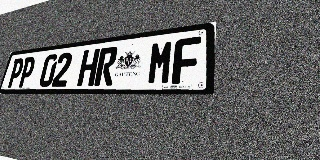0: (38, 54, 59, 87)
2: (51, 52, 73, 87)
F: (171, 36, 201, 84)
H: (77, 49, 100, 86)
M: (146, 39, 175, 85)
P: (17, 56, 37, 87), (6, 58, 25, 88)
R: (94, 46, 118, 86)
